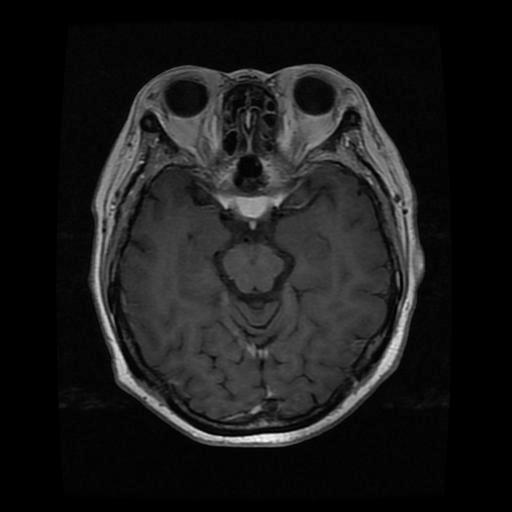Tumour-Pituitary: (202, 228, 301, 309)
